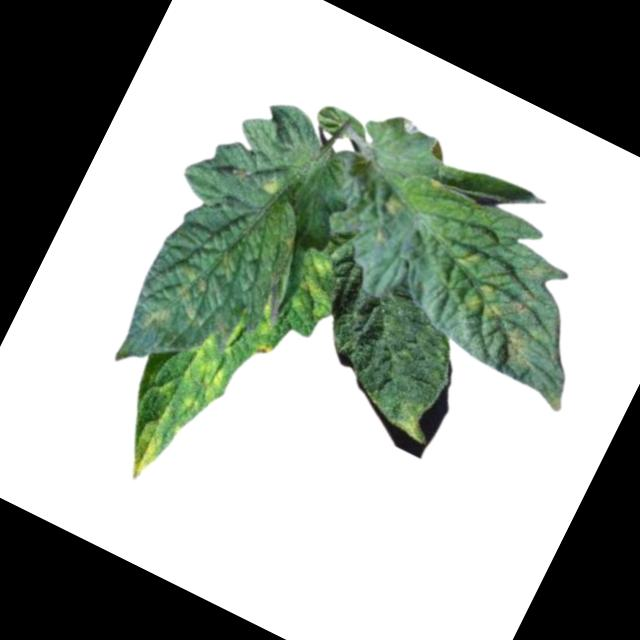Leaf_Mold: (430, 241, 521, 327), (164, 337, 239, 423), (116, 413, 172, 485), (383, 403, 435, 445), (260, 172, 292, 204), (377, 191, 406, 223), (247, 337, 275, 364)
